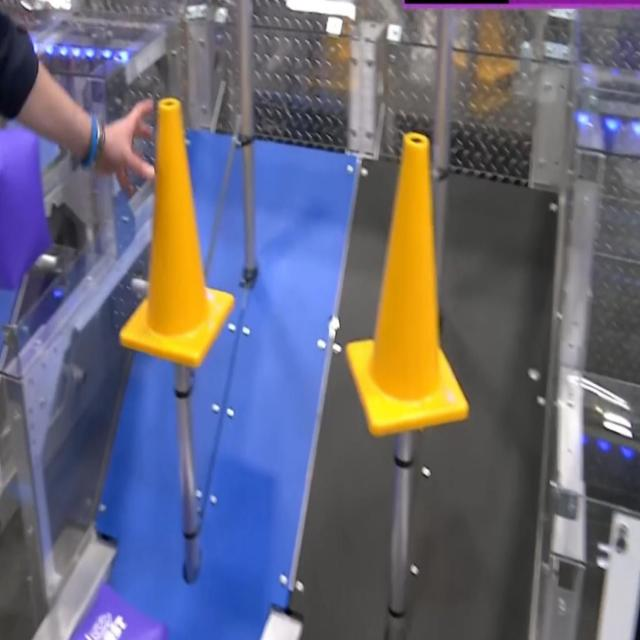frc_cone: (345, 130, 470, 433), (117, 98, 235, 365)
frc_cube: (0, 125, 49, 291), (68, 588, 165, 640)
